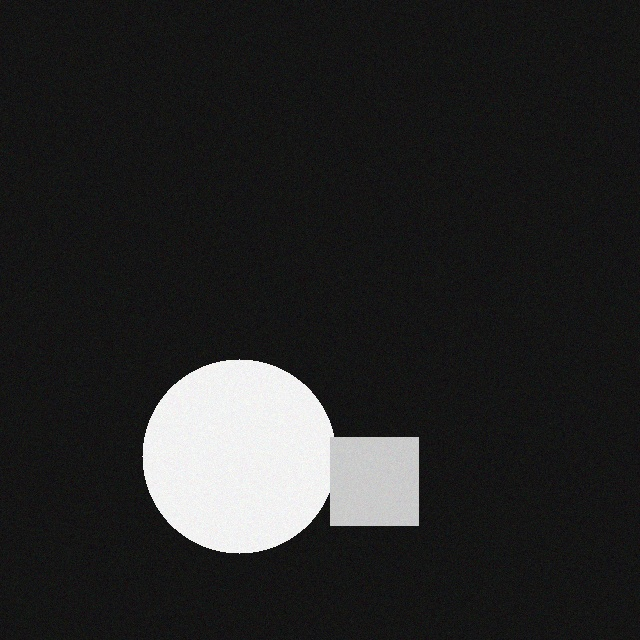circle: (156, 358, 350, 552)
square: (344, 436, 432, 524)
